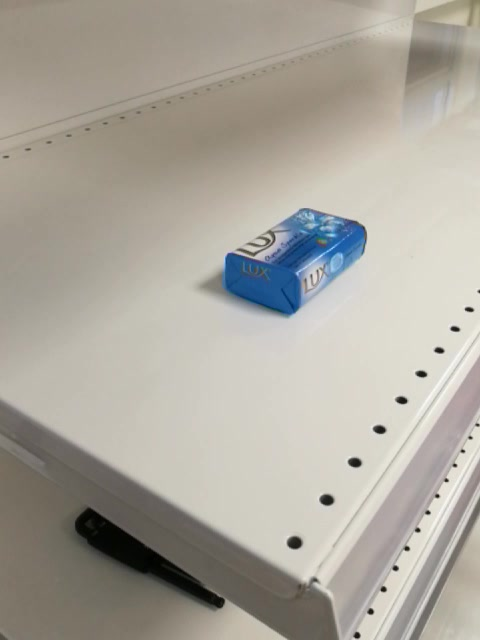soap: (224, 207, 369, 316)
